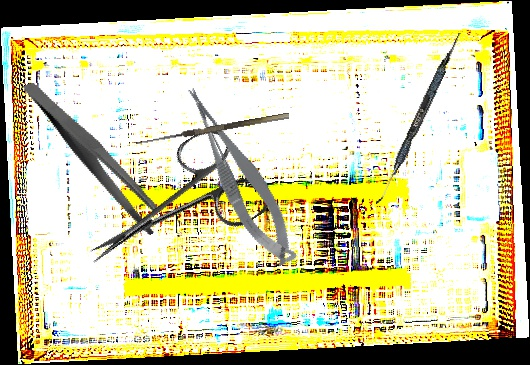Dressing Forceps: (22, 56, 168, 257)
Hook Surgical: (134, 112, 292, 154)
Iris Scissors: (65, 117, 278, 303)
Micro Scissor: (179, 75, 303, 275)
Spatula Surgical: (375, 29, 463, 208)
